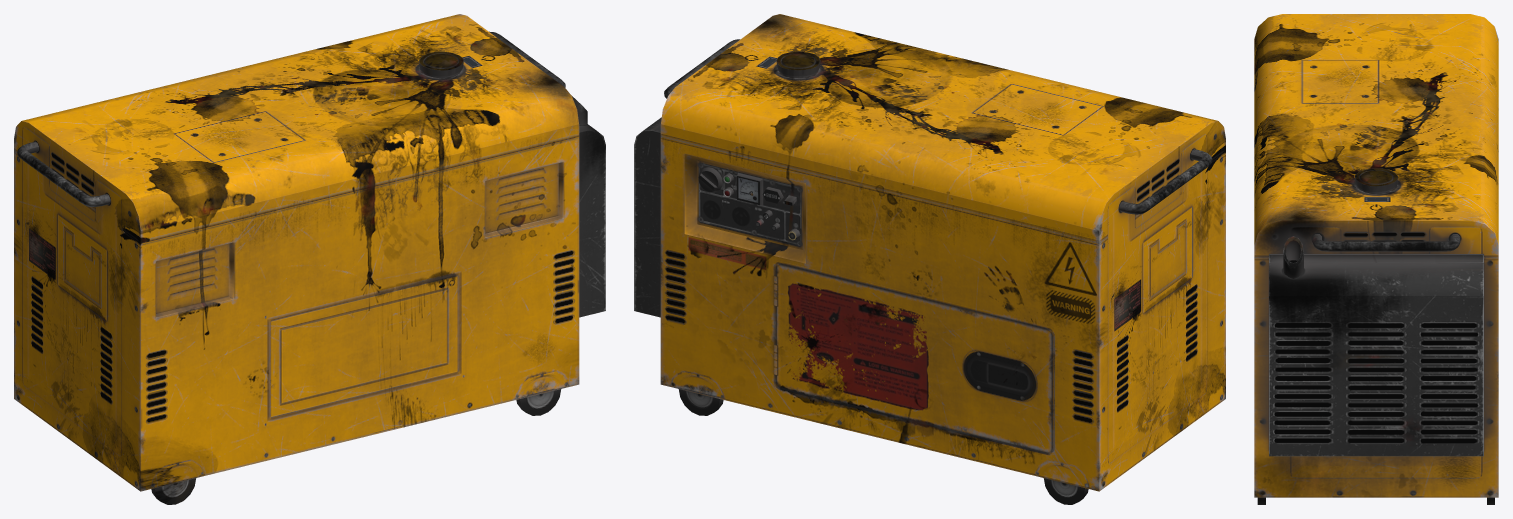
File: MarketGenerator.fbx
The picture shows the model from 3 angles, left to right: view 1: azimuth 30°, elevation 25°; view 2: azimuth 150°, elevation 25°; view 3: azimuth 270°, elevation 25°; orthographic projection. The views are drawn at different scales.
Parts seen in each view (by area): view 1: BG_2_p1_low_lambert1_0.001, BG_1_p1_low_lambert1_0.001, BG_1_p3_low_lambert1_0.001, BG_1_p10_low_lambert1_0.001, BG_1_p11_low_lambert1_0.001; view 2: BG_2_p1_low_lambert1_0.001, BG_1_p1_low_lambert1_0.001, BG_1_p3_low_lambert1_0.001, BG_1_p10_low_lambert1_0.001, BG_1_p11_low_lambert1_0.001, BG_1_p6_low_lambert1_0.001; view 3: BG_2_p1_low_lambert1_0.001, BG_1_p1_low_lambert1_0.001, BG_1_p3_low_lambert1_0.001, BG_1_p11_low_lambert1_0.001, BG_1_p2_low_lambert1_0.001.
Part boxes in pixels (x1=…): BG_2_p1_low_lambert1_0.001: x1=14, y1=14, x2=579, y2=491; BG_1_p1_low_lambert1_0.001: x1=579, y1=124, x2=605, y2=317; BG_1_p3_low_lambert1_0.001: x1=17, y1=31, x2=565, y2=206; BG_1_p10_low_lambert1_0.001: x1=151, y1=389, x2=561, y2=504; BG_1_p11_low_lambert1_0.001: x1=419, y1=51, x2=463, y2=77; BG_2_p1_low_lambert1_0.001: x1=660, y1=14, x2=1225, y2=491; BG_1_p1_low_lambert1_0.001: x1=634, y1=117, x2=661, y2=317; BG_1_p3_low_lambert1_0.001: x1=664, y1=39, x2=1212, y2=214; BG_1_p10_low_lambert1_0.001: x1=678, y1=389, x2=1088, y2=504; BG_1_p11_low_lambert1_0.001: x1=776, y1=51, x2=820, y2=77; BG_1_p6_low_lambert1_0.001: x1=737, y1=173, x2=763, y2=205; BG_2_p1_low_lambert1_0.001: x1=1254, y1=14, x2=1498, y2=497; BG_1_p1_low_lambert1_0.001: x1=1269, y1=254, x2=1483, y2=456; BG_1_p3_low_lambert1_0.001: x1=1312, y1=234, x2=1460, y2=251; BG_1_p11_low_lambert1_0.001: x1=1355, y1=168, x2=1397, y2=193; BG_1_p2_low_lambert1_0.001: x1=1283, y1=236, x2=1303, y2=278.
Size of the model in its own units: 452 by 280 by 200.
